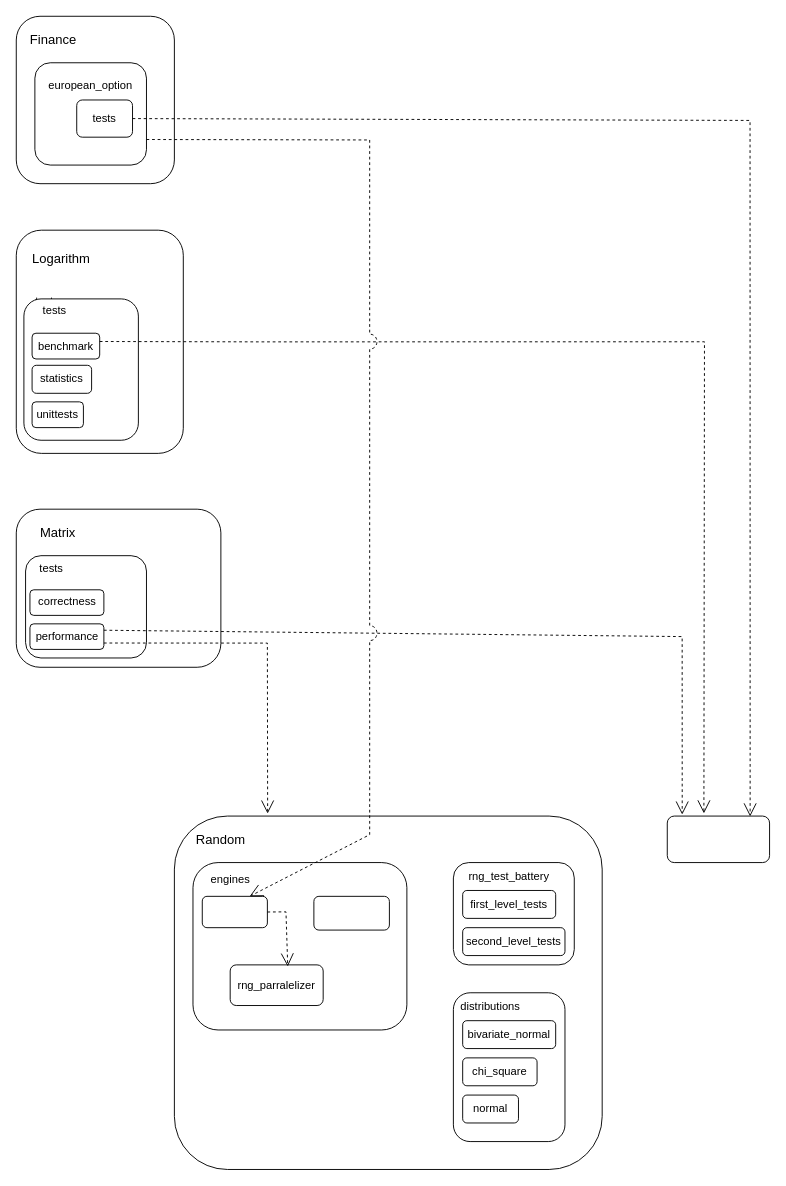
This 786x1186 diagram has some shape labels left out. The shapes that lost their labels are listed below. From the top down, each one's centre as x and y in pixels, then its label:
[718,839]: Benchmarking
[234,911]: minstd
[351,912]: mrg32k3a
